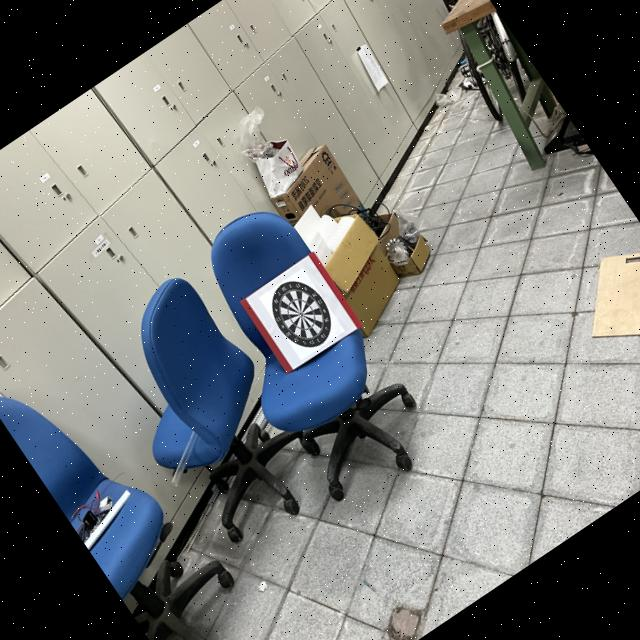archery-targets: (258, 268, 346, 360)
